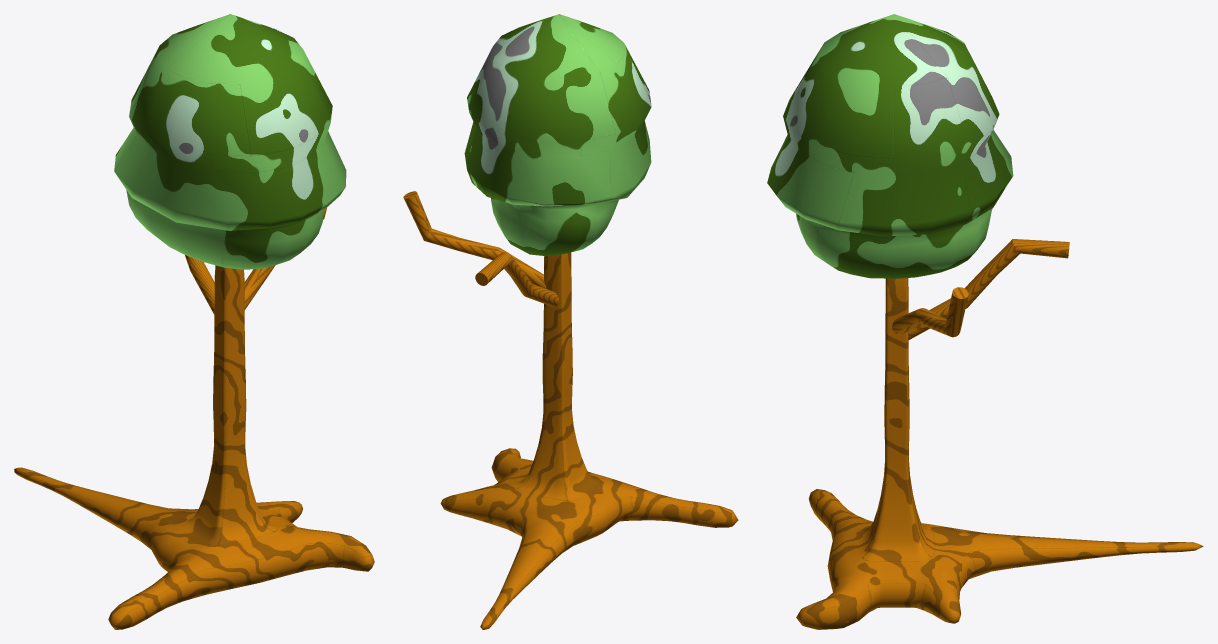
Rendered from tree1.fbx.
3 renders of one model, left to right at view 1: azimuth 30°, elevation 25°; view 2: azimuth 150°, elevation 25°; view 3: azimuth 270°, elevation 25°, orthographic. The views are drawn at different scales.
Visible parts, largest first — view 1: Sphere, Plane, Cylinder, Cylinder.001; view 2: Sphere, Plane, Cylinder.001, Cylinder; view 3: Sphere, Plane, Cylinder, Cylinder.001.
Boxes of the visible parts, <box> form: Sphere: <box>114,14,346,269</box>; Plane: <box>14,265,374,629</box>; Cylinder: <box>185,255,214,314</box>; Cylinder.001: <box>244,208,326,309</box>; Sphere: <box>464,14,651,256</box>; Plane: <box>440,252,738,629</box>; Cylinder.001: <box>403,191,546,288</box>; Cylinder: <box>475,251,558,306</box>; Sphere: <box>767,14,1013,278</box>; Plane: <box>796,278,1203,629</box>; Cylinder: <box>908,239,1069,339</box>; Cylinder.001: <box>892,287,968,337</box>.
Bounding box in the file's own units: 453 × 810 × 561.
Materials: 3 (3 with a texture image).
